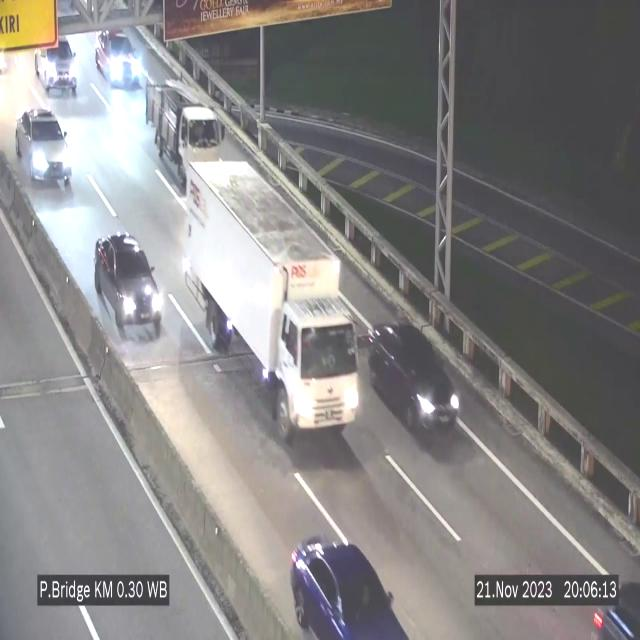Car: (369, 320, 459, 445), (94, 233, 162, 339), (16, 108, 72, 187), (95, 28, 141, 90), (38, 31, 80, 98)
Truck: (180, 156, 360, 439), (143, 81, 221, 187)
